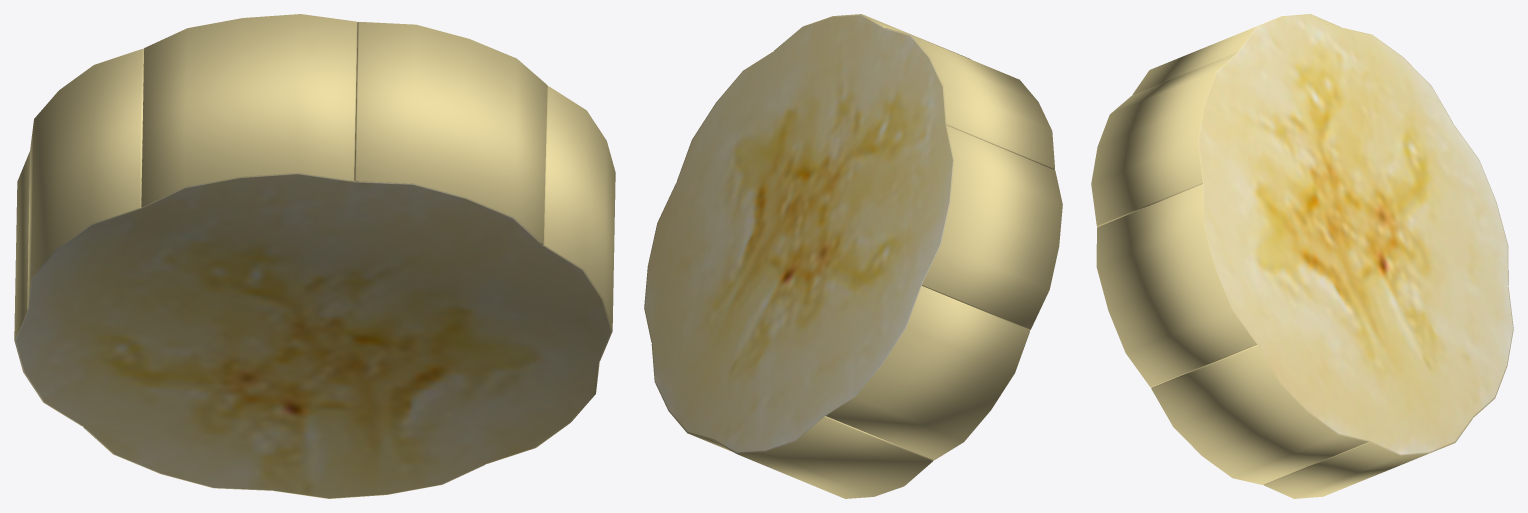
Rendered from banana.glb.
The picture shows the model from 3 angles, left to right: view 1: azimuth 30°, elevation 25°; view 2: azimuth 150°, elevation 25°; view 3: azimuth 270°, elevation 25°; orthographic projection. The views are drawn at different scales.
Parts seen in each view (by area): view 1: banana.001; view 2: banana.001; view 3: banana.001.
Boxes of the visible parts, x1,y1,x2,y2 form: banana.001: (14, 14, 615, 498); banana.001: (644, 14, 1062, 498); banana.001: (1091, 14, 1513, 498).
Size of the model in its own units: 0.8904 by 0.8715 by 0.784.
2 materials, 1 textured.
